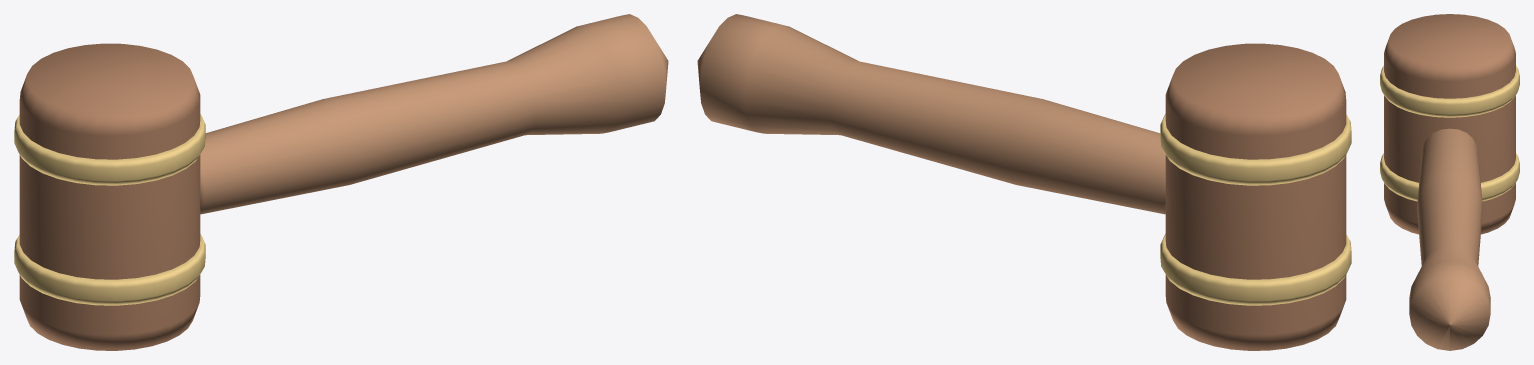
The model's file is gavel.glb.
The picture shows the model from 3 angles, left to right: view 1: azimuth 30°, elevation 25°; view 2: azimuth 150°, elevation 25°; view 3: azimuth 270°, elevation 25°; orthographic projection. The views are drawn at different scales.
Parts seen in each view (by area): view 1: head, handle, band-0.022, band0.016; view 2: head, handle, band-0.022, band0.016; view 3: head, handle, band0.016, band-0.022.
Boxes of the visible parts, box(x1,y1,x2,y2) form: head: box(19, 43, 200, 350); handle: box(200, 14, 668, 214); band-0.022: box(14, 234, 205, 305); band0.016: box(14, 114, 205, 185); head: box(1165, 43, 1346, 350); handle: box(697, 14, 1165, 214); band-0.022: box(1160, 234, 1351, 305); band0.016: box(1160, 114, 1351, 185); head: box(1384, 14, 1515, 234); handle: box(1409, 128, 1490, 350); band0.016: box(1380, 65, 1519, 117); band-0.022: box(1380, 153, 1519, 201).
Bounding box in the file's own units: 0.2125 × 0.075 × 0.055.
